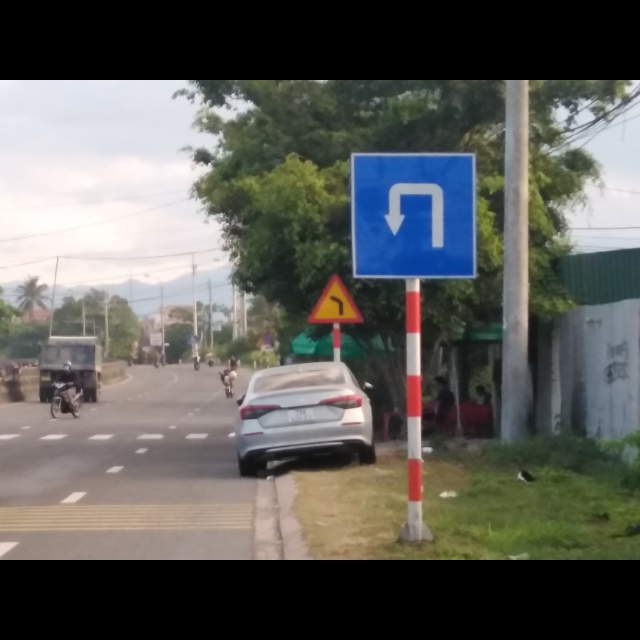Khu vực quay đầu xe: (349, 153, 477, 284)
